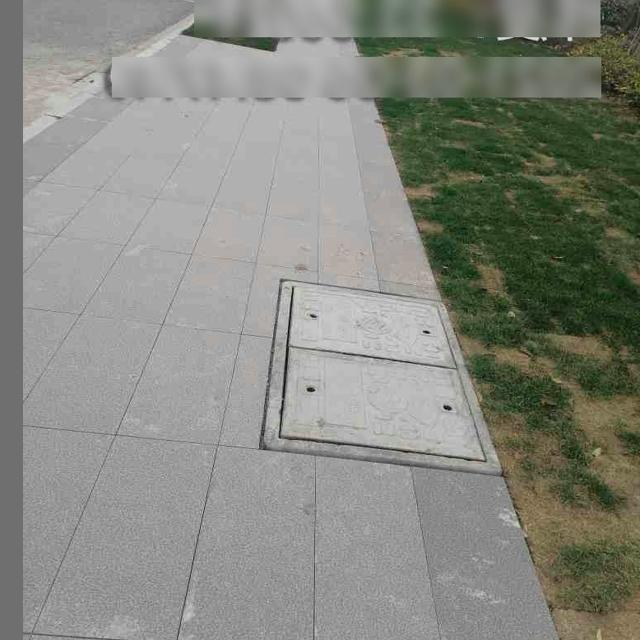good: (261, 294, 508, 478)
